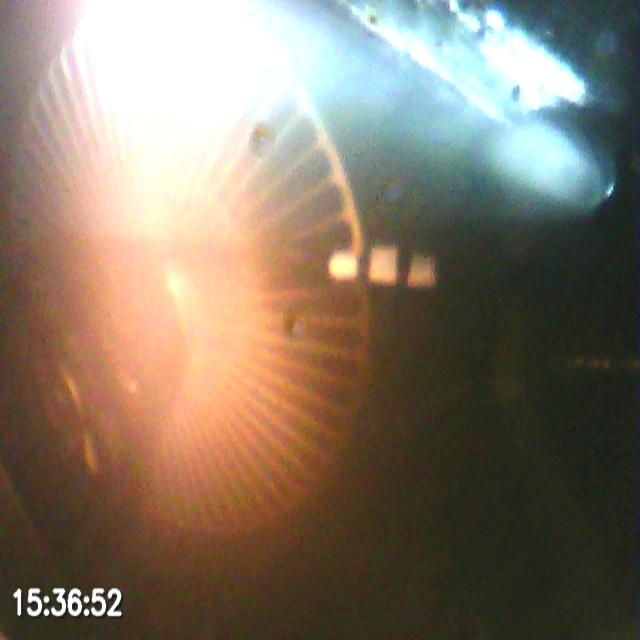white-dots: (329, 244, 438, 292)
